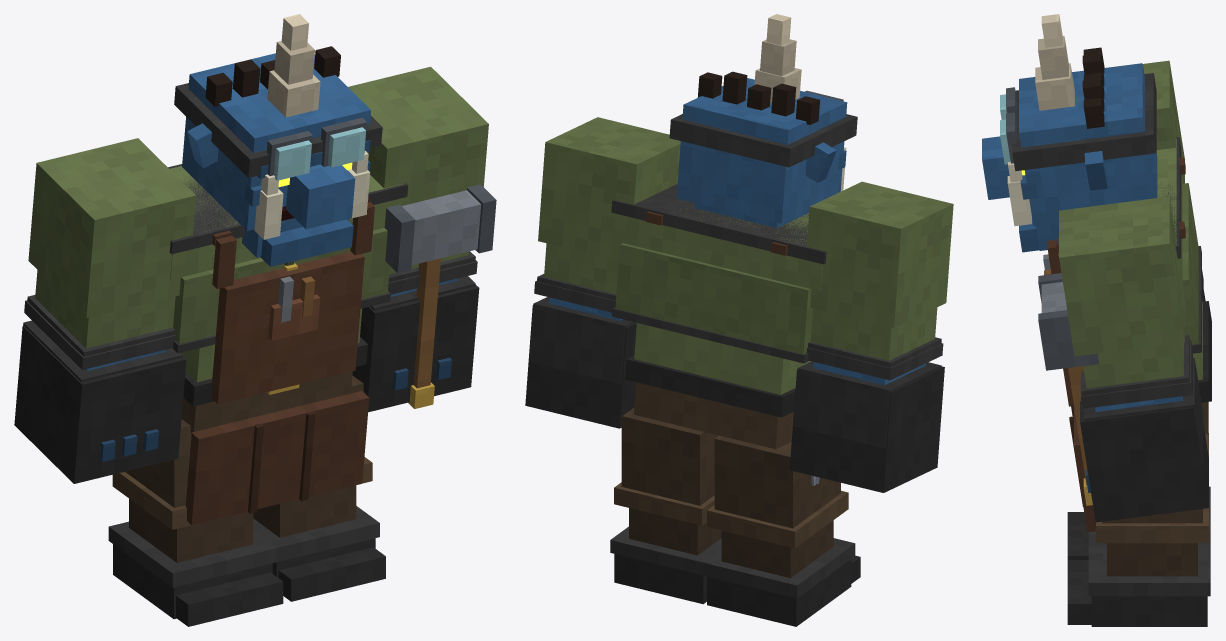
Rendered from ogre_forgeron.glb.
The picture shows the model from 3 angles, left to right: view 1: azimuth 30°, elevation 25°; view 2: azimuth 150°, elevation 25°; view 3: azimuth 270°, elevation 25°; orthographic projection. The views are drawn at different scales.
Visible parts, largest first — view 1: Torso, ArmR, Head, ArmL, LegR, LegL, HandL; view 2: Torso, ArmR, ArmL, Head, LegR, LegL; view 3: ArmL, Head, LegL, Torso, HandL, ArmR, LegR.
Boxes of the visible parts, x1,y1,x2,y2 form: Torso: [168, 164, 408, 525]; ArmR: [14, 138, 195, 483]; Head: [174, 14, 382, 266]; ArmL: [348, 66, 488, 412]; LegR: [108, 419, 283, 626]; LegL: [253, 375, 385, 601]; HandL: [384, 184, 496, 408]; Torso: [611, 184, 826, 485]; ArmR: [789, 181, 953, 492]; ArmL: [525, 117, 680, 428]; Head: [669, 14, 857, 227]; LegR: [703, 435, 860, 626]; LegL: [610, 407, 721, 604]; ArmL: [1059, 196, 1208, 522]; Head: [982, 14, 1157, 252]; LegL: [1067, 508, 1210, 626]; Torso: [1043, 137, 1211, 532]; HandL: [1038, 273, 1098, 505]; ArmR: [1143, 60, 1205, 301]; LegR: [1067, 433, 1210, 559].
Size of the model in its own units: 1.47 by 2.09 by 0.7722.
39 materials, 39 textured.
